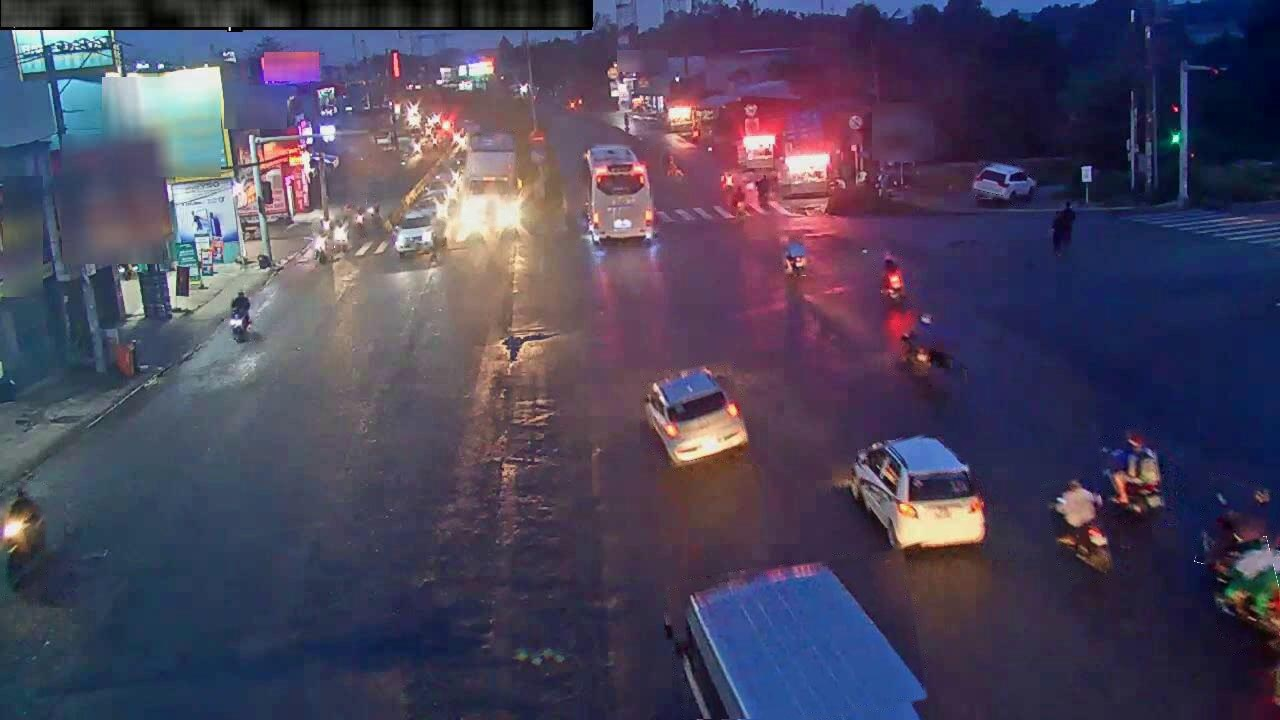Bus: (584, 145, 655, 244), (463, 133, 518, 194)
Car: (849, 436, 985, 549), (644, 368, 748, 466), (972, 164, 1036, 204), (394, 208, 442, 257)
Motorcycle: (1051, 481, 1113, 572)
Motorcyclist: (1214, 539, 1279, 647), (1201, 487, 1271, 581), (1104, 431, 1164, 515), (0, 486, 46, 589), (899, 314, 932, 372), (880, 255, 905, 304), (228, 292, 252, 343), (783, 236, 807, 275), (313, 231, 329, 264), (754, 173, 769, 207), (333, 220, 348, 250), (353, 207, 368, 235), (731, 186, 745, 214), (366, 201, 381, 224)
Pedestrian: (1054, 201, 1075, 247)
Truck: (665, 563, 926, 719)
